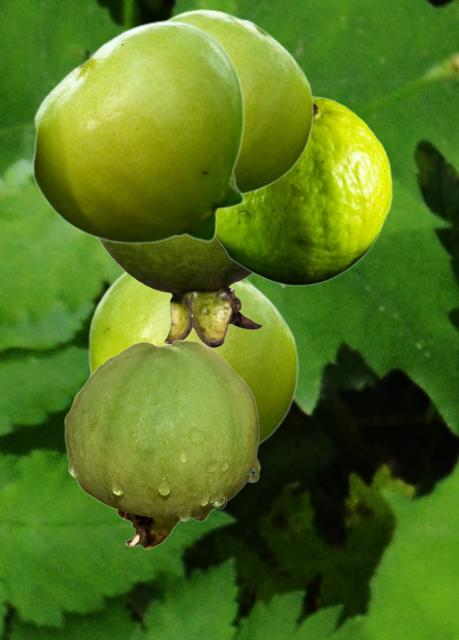guava: (31, 19, 244, 243), (64, 339, 259, 548), (86, 271, 298, 444), (215, 96, 391, 285), (165, 9, 313, 195), (98, 237, 285, 347)
